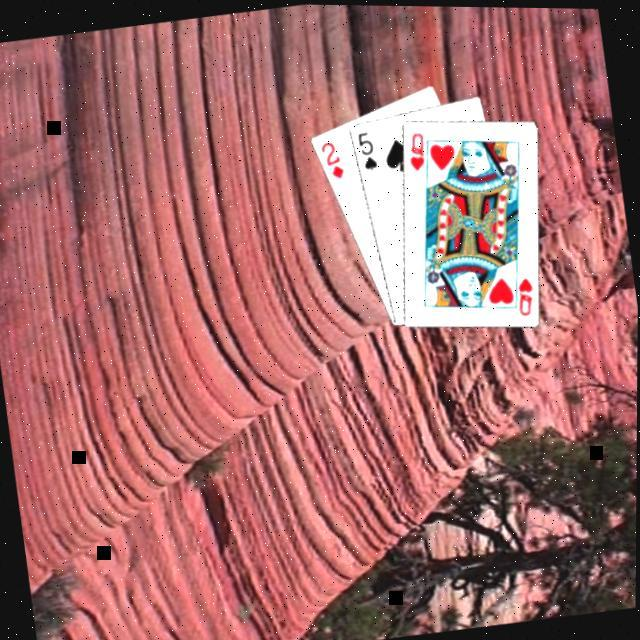2D: (318, 135, 350, 180)
5S: (355, 125, 382, 171)
QH: (508, 263, 541, 315), (404, 125, 432, 170)
